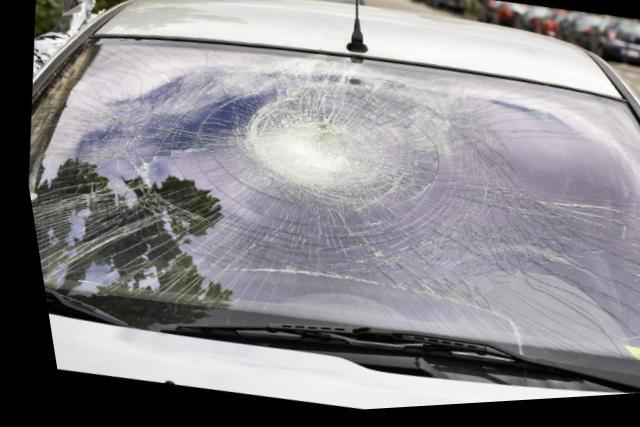glass shatter: (22, 38, 640, 368)
